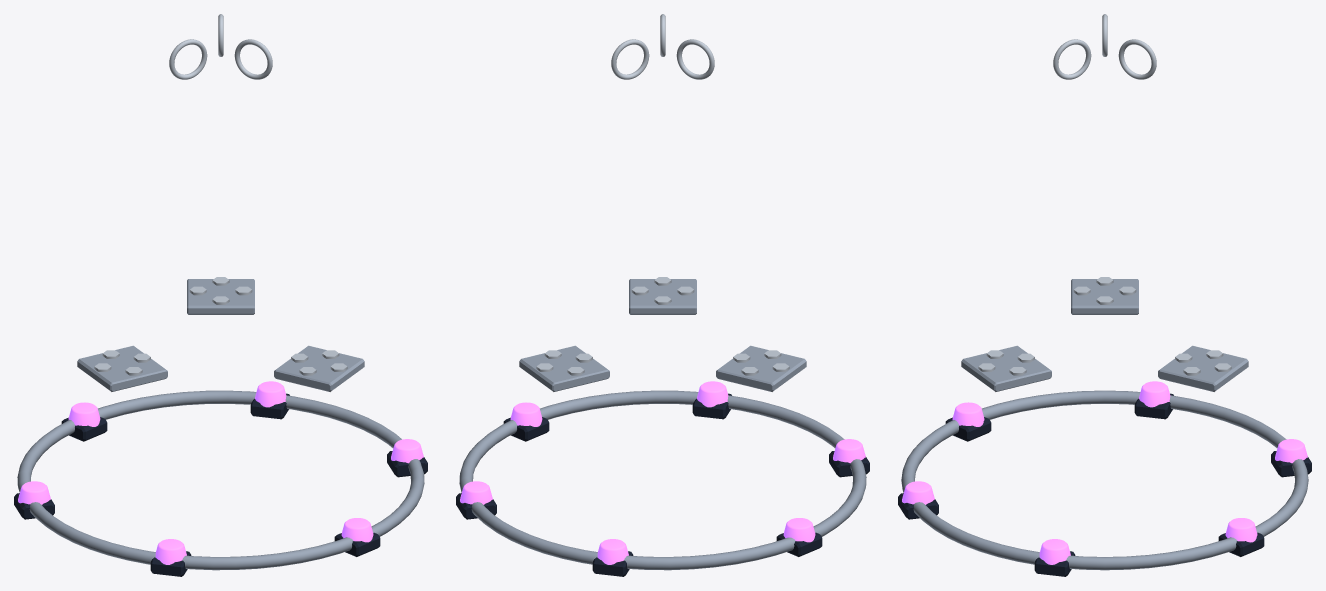
File: tower_singularity_range_s4.glb
3 views of the same model, side by side, from view 1: azimuth 30°, elevation 25°; view 2: azimuth 150°, elevation 25°; view 3: azimuth 270°, elevation 25° (orthographic).
Visible parts, largest first — view 1: singularity_projector_ring, singularity_foot_plate0, singularity_foot_plate1, singularity_foot_plate2, singularity_projector_node2, singularity_projector_node5, singularity_projector_node1, singularity_projector_node4, singularity_projector_node0, singularity_focus_ring0, singularity_focus_ring1, singularity_projector_node3 (+4 smaller); view 2: singularity_projector_ring, singularity_foot_plate0, singularity_foot_plate2, singularity_foot_plate1, singularity_projector_node4, singularity_projector_node1, singularity_projector_node3, singularity_projector_node0, singularity_projector_node2, singularity_projector_node5, singularity_focus_ring0, singularity_focus_ring2 (+4 smaller); view 3: singularity_projector_ring, singularity_foot_plate1, singularity_foot_plate2, singularity_foot_plate0, singularity_projector_node0, singularity_projector_node3, singularity_projector_node5, singularity_projector_node2, singularity_projector_node4, singularity_projector_node1, singularity_focus_ring1, singularity_focus_ring2 (+4 smaller).
Part boxes in pixels (<box>): singularity_projector_ring: <box>17,390,424,570</box>; singularity_foot_plate0: <box>77,345,167,391</box>; singularity_foot_plate1: <box>274,345,364,391</box>; singularity_foot_plate2: <box>187,279,254,314</box>; singularity_projector_node2: <box>254,381,286,407</box>; singularity_projector_node5: <box>155,539,186,564</box>; singularity_projector_node1: <box>68,402,100,426</box>; singularity_projector_node4: <box>341,518,373,542</box>; singularity_projector_node0: <box>18,481,50,504</box>; singularity_focus_ring0: <box>169,39,207,79</box>; singularity_focus_ring1: <box>234,39,272,79</box>; singularity_projector_node3: <box>391,439,423,463</box>; singularity_projector_ring: <box>459,390,866,570</box>; singularity_foot_plate0: <box>716,345,806,391</box>; singularity_foot_plate2: <box>519,345,609,391</box>; singularity_foot_plate1: <box>629,279,696,314</box>; singularity_projector_node4: <box>697,381,728,407</box>; singularity_projector_node1: <box>597,539,628,564</box>; singularity_projector_node3: <box>510,402,542,426</box>; singularity_projector_node0: <box>783,518,815,542</box>; singularity_projector_node2: <box>460,481,492,504</box>; singularity_projector_node5: <box>833,439,865,463</box>; singularity_focus_ring0: <box>676,39,714,79</box>; singularity_focus_ring2: <box>611,39,649,79</box>; singularity_projector_ring: <box>901,390,1308,570</box>; singularity_foot_plate1: <box>961,345,1051,391</box>; singularity_foot_plate2: <box>1158,345,1248,391</box>; singularity_foot_plate0: <box>1071,279,1138,314</box>; singularity_projector_node0: <box>1139,381,1170,407</box>; singularity_projector_node3: <box>1039,539,1070,564</box>; singularity_projector_node5: <box>952,402,984,426</box>; singularity_projector_node2: <box>1225,518,1257,542</box>; singularity_projector_node4: <box>902,481,934,504</box>; singularity_projector_node1: <box>1275,439,1307,463</box>; singularity_focus_ring1: <box>1053,39,1091,79</box>; singularity_focus_ring2: <box>1118,39,1156,79</box>.
Bounding box in the file's own units: 2.19 × 2.67 × 2.19.
